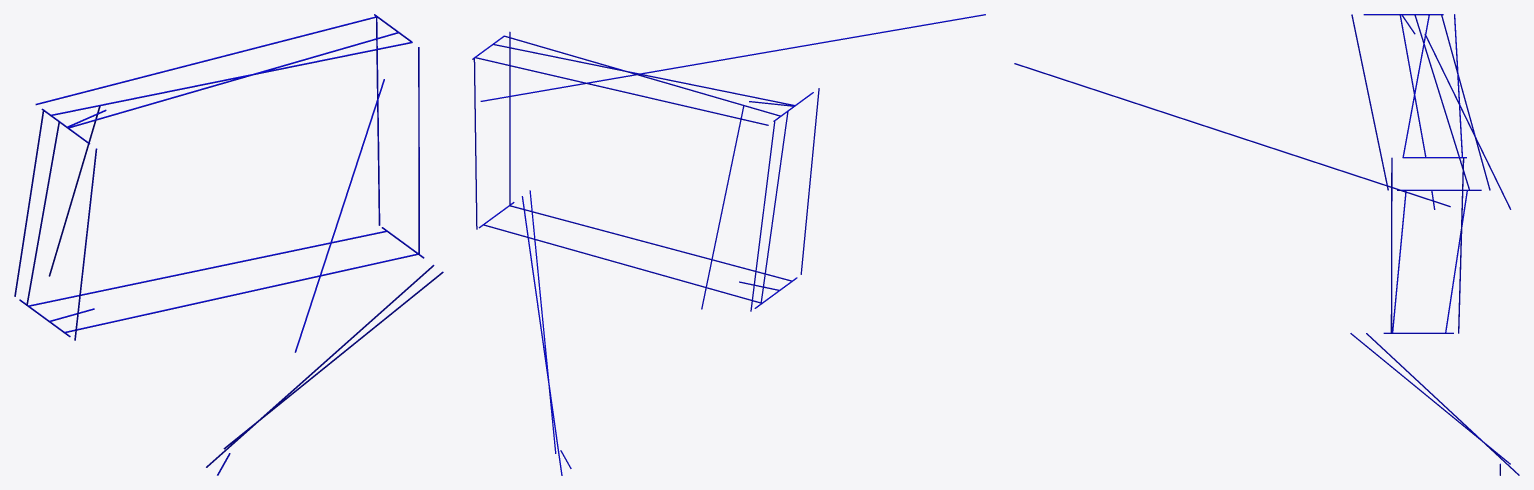
File: corrected_3d_strokes.glb
The picture shows the model from 3 angles, left to right: view 1: azimuth 30°, elevation 25°; view 2: azimuth 150°, elevation 25°; view 3: azimuth 270°, elevation 25°; orthographic projection. The views are drawn at different scales.
Visible parts, largest first — view 1: world; view 2: world; view 3: world.
Boxes of the visible parts, x1=… form: world: x1=14, y1=14, x2=443, y2=475; world: x1=472, y1=14, x2=985, y2=475; world: x1=1014, y1=14, x2=1519, y2=475.
Bounding box in the file's own units: 9.71 × 11.83 × 14.44.
